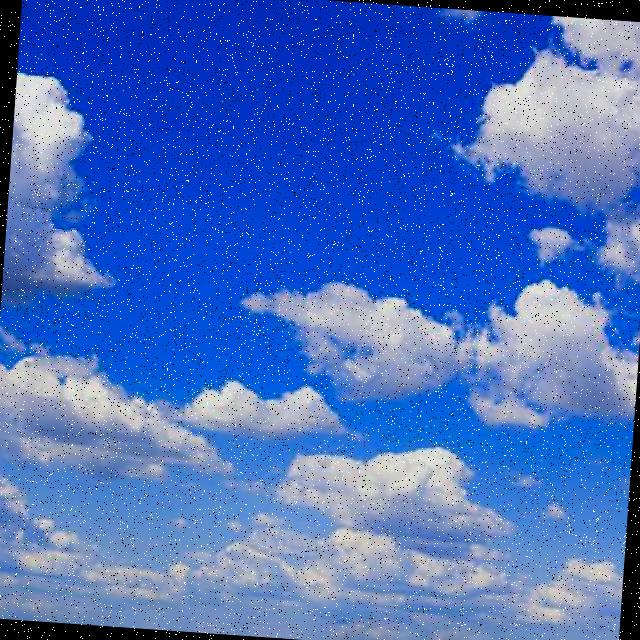Cu: (1, 1, 640, 634)
